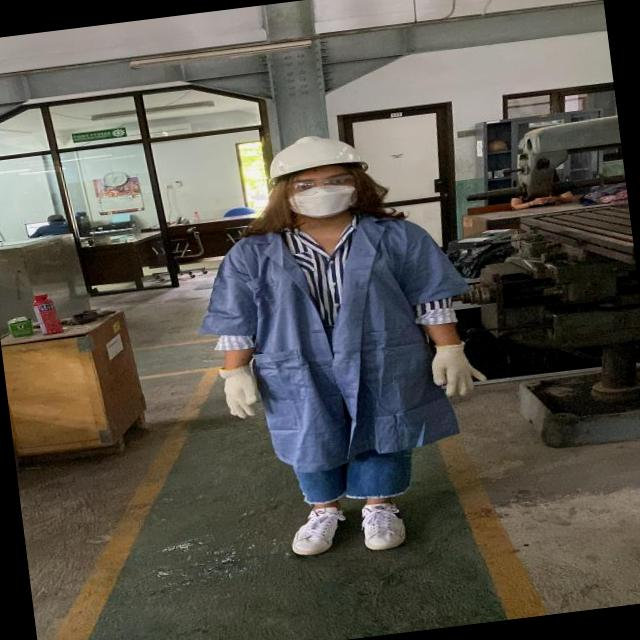gloves: (160, 313, 300, 447), (395, 292, 518, 416)
helmet: (246, 130, 356, 187)
no-boots: (273, 477, 351, 587), (350, 471, 428, 576)
